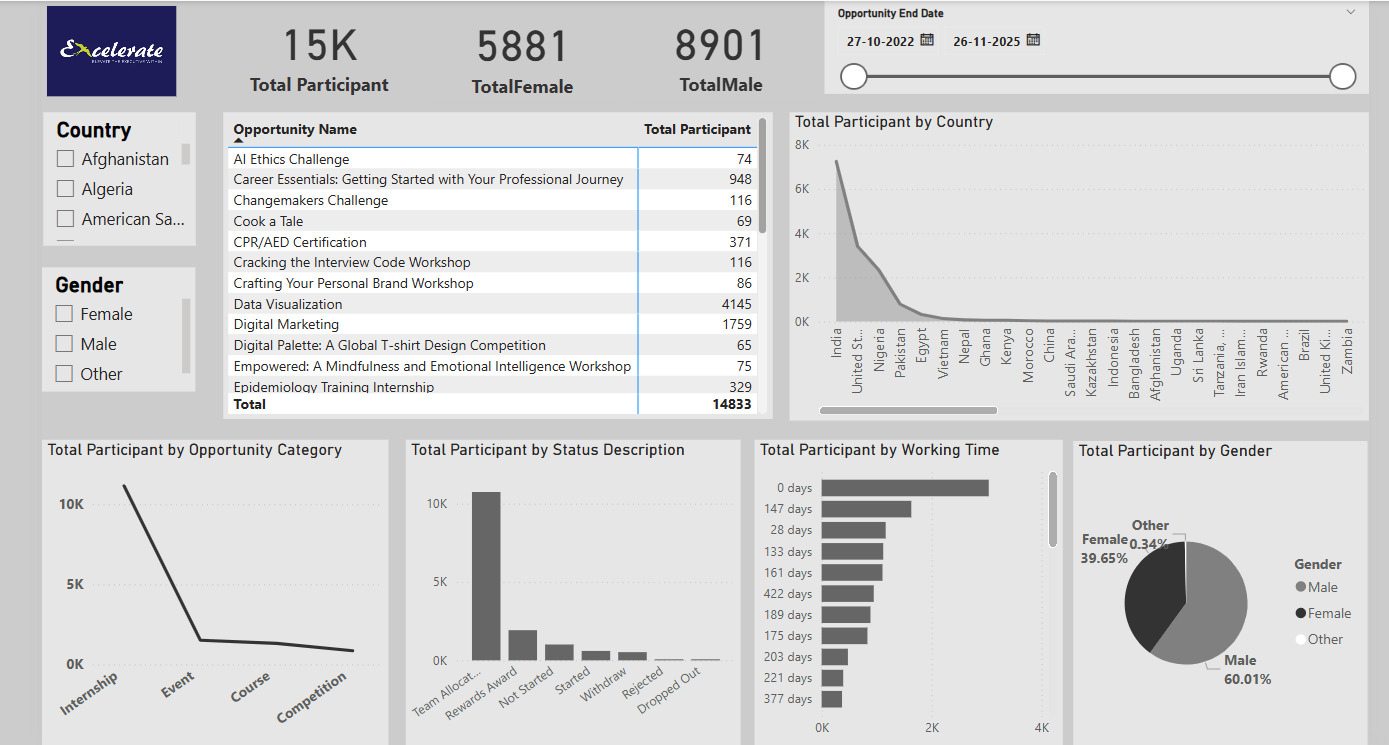

This screenshot's page, from the dashboard's own definition file:
{"tool":"powerbi","page":{"name":"Analysis","canvas":[1280,720],"ordinal":0},"visuals":[{"type":"card","fields":{"Values":["Working Sheet.Total Participant"]},"box":[175.2,0,185.3,97.2],"z":0},{"type":"card","fields":{"Values":["Working Sheet.TotalFemale"]},"box":[374,1.2,179.8,97.7],"z":1000},{"type":"slicer","fields":{"Values":["Working Sheet.Country"]},"box":[1.1,107.4,146.9,128.8],"z":2000},{"type":"pivotTable","fields":{"Rows":["Working Sheet.Opportunity Name"],"Values":["Working Sheet.Total Participant"]},"box":[175.2,107.4,530,296.1],"z":3000},{"type":"lineChart","fields":{"Category":["Working Sheet.Opportunity Category"],"Y":["Working Sheet.Total Participant"]},"box":[0,423.8,334.5,296.1],"z":4000},{"type":"areaChart","fields":{"Category":["Working Sheet.Country"],"Y":["Working Sheet.Total Participant"]},"box":[721,107.4,559.4,297.2],"z":5000},{"type":"columnChart","fields":{"Category":["Working Sheet.Status Description"],"Y":["Working Sheet.Total Participant"]},"box":[351.5,423.8,323.2,296.1],"z":6000},{"type":"pieChart","fields":{"Y":["Working Sheet.Total Participant"],"Category":["Working Sheet.Gender"]},"box":[995.7,424.3,284.3,295.7],"z":7000},{"type":"barChart","fields":{"Category":["Working Sheet.Working Time"],"Y":["Working Sheet.Total Participant"]},"box":[687.1,423.8,297.2,296.1],"z":8000},{"type":"slicer","fields":{"Values":["Working Sheet.Opportunity End Date"]},"box":[754.9,0,525.5,89.3],"z":9000},{"type":"slicer","fields":{"Values":["Working Sheet.Gender"]},"box":[0,256.5,148,119.8],"z":10000},{"type":"image","box":[0,0,134.5,97.2],"z":11000},{"type":"card","fields":{"Values":["Working Sheet.TotalMale"]},"box":[565.8,0,179.8,97.7],"z":12000}]}

Visuals, with their boxes on the page's 1280x720 design canvas (x1, y1, x2, y2). These are canvas units, not pixel positions in the 1389x745 screenshot, which may show the page scaled, cropped or inside an application window:
card - Working Sheet.Total Participant: [175, 0, 360, 97]
card - Working Sheet.TotalFemale: [374, 1, 554, 99]
slicer - Working Sheet.Country: [1, 107, 148, 236]
pivotTable - Working Sheet.Opportunity Name x Working Sheet.Total Participant: [175, 107, 705, 404]
lineChart - Working Sheet.Opportunity Category x Working Sheet.Total Participant: [0, 424, 334, 720]
areaChart - Working Sheet.Country x Working Sheet.Total Participant: [721, 107, 1280, 405]
columnChart - Working Sheet.Status Description x Working Sheet.Total Participant: [352, 424, 675, 720]
pieChart - Working Sheet.Total Participant x Working Sheet.Gender: [996, 424, 1280, 720]
barChart - Working Sheet.Working Time x Working Sheet.Total Participant: [687, 424, 984, 720]
slicer - Working Sheet.Opportunity End Date: [755, 0, 1280, 89]
slicer - Working Sheet.Gender: [0, 256, 148, 376]
image: [0, 0, 134, 97]
card - Working Sheet.TotalMale: [566, 0, 746, 98]
